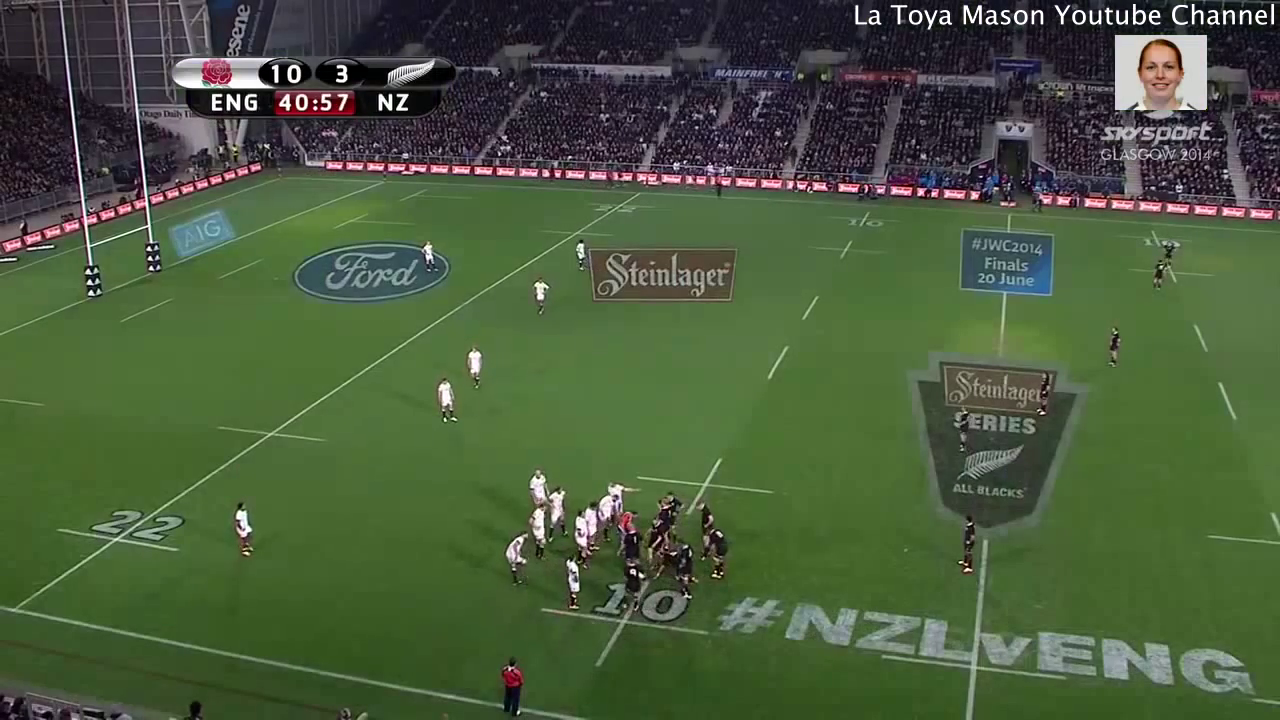10_metre: (536, 574, 714, 673), (630, 453, 780, 526), (1196, 503, 1280, 552), (1128, 260, 1217, 290), (806, 236, 894, 266), (820, 209, 904, 232), (1118, 227, 1193, 250)
player: (500, 524, 535, 590), (699, 522, 735, 583), (952, 509, 984, 577), (429, 373, 463, 430), (461, 340, 490, 396), (592, 489, 620, 547), (229, 498, 256, 558), (1097, 316, 1127, 370), (675, 535, 700, 599), (619, 556, 646, 615), (526, 500, 552, 561), (693, 497, 718, 558), (641, 515, 667, 573), (525, 272, 556, 320), (546, 481, 570, 543), (612, 520, 642, 565), (563, 551, 584, 612), (571, 508, 591, 570), (950, 402, 973, 454), (1032, 368, 1055, 418), (523, 465, 550, 505), (605, 478, 633, 513), (584, 501, 600, 556), (419, 238, 442, 276), (655, 495, 673, 543), (1148, 260, 1170, 297), (614, 504, 640, 533), (569, 238, 589, 273), (659, 487, 680, 520), (1160, 237, 1179, 270)
post: (46, 1, 173, 304)
